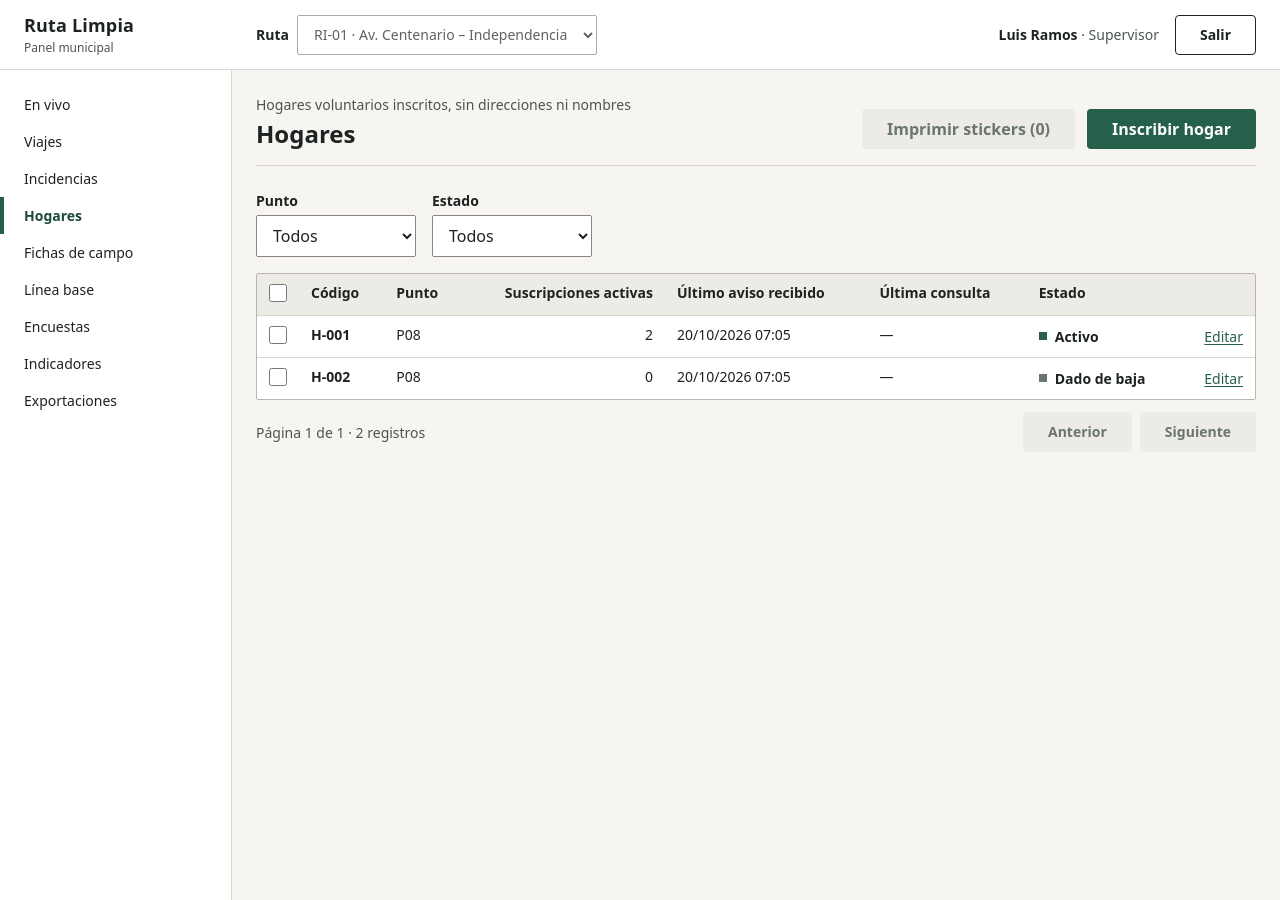
Test: HouseholdsPage › enrolls a household and tells the new code the API gave it
Click the button "Inscribir hogar" at (1172, 129), box [1087,109,1256,149]
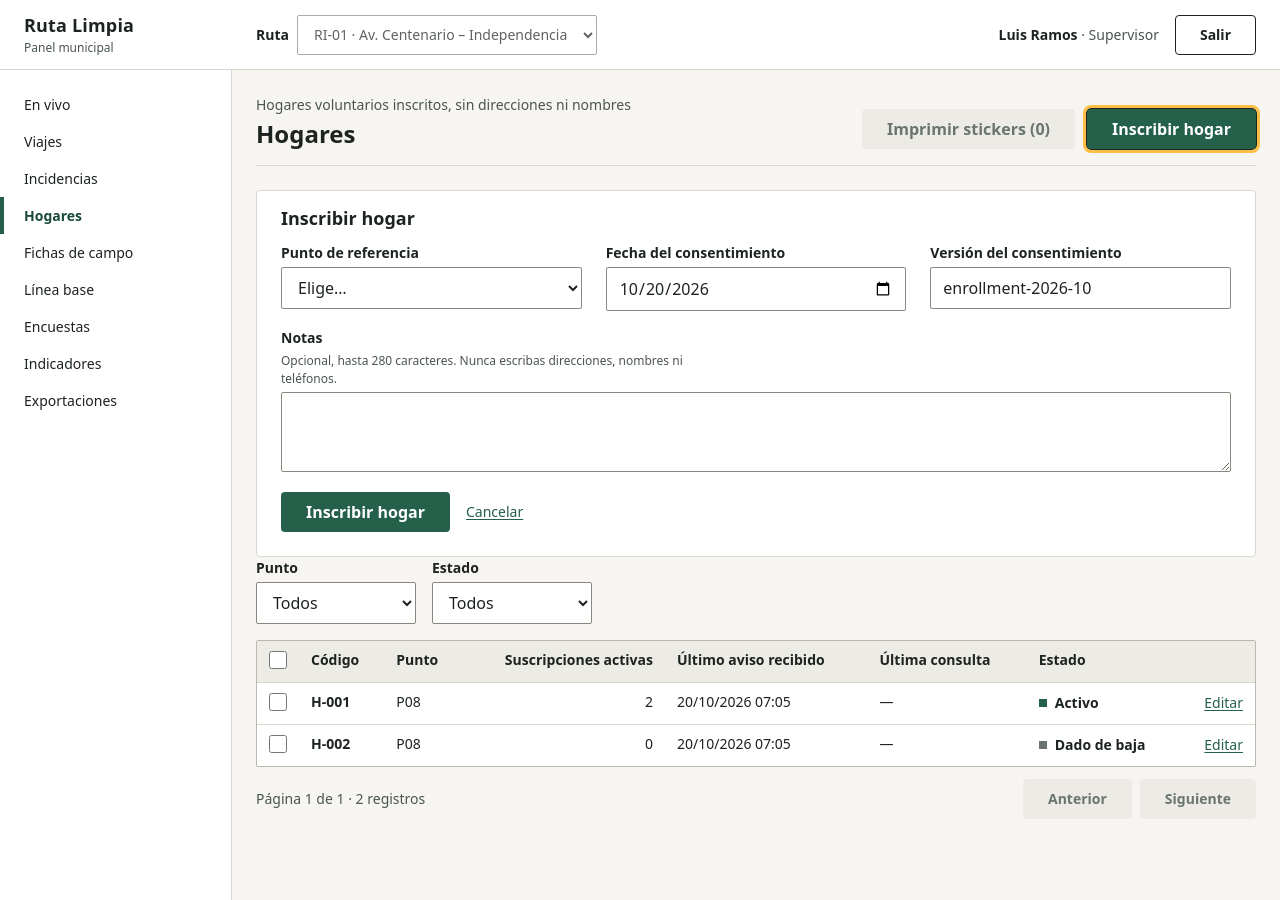
Click the button "Inscribir hogar" below "Notas" at (366, 512), box [281,492,450,532]
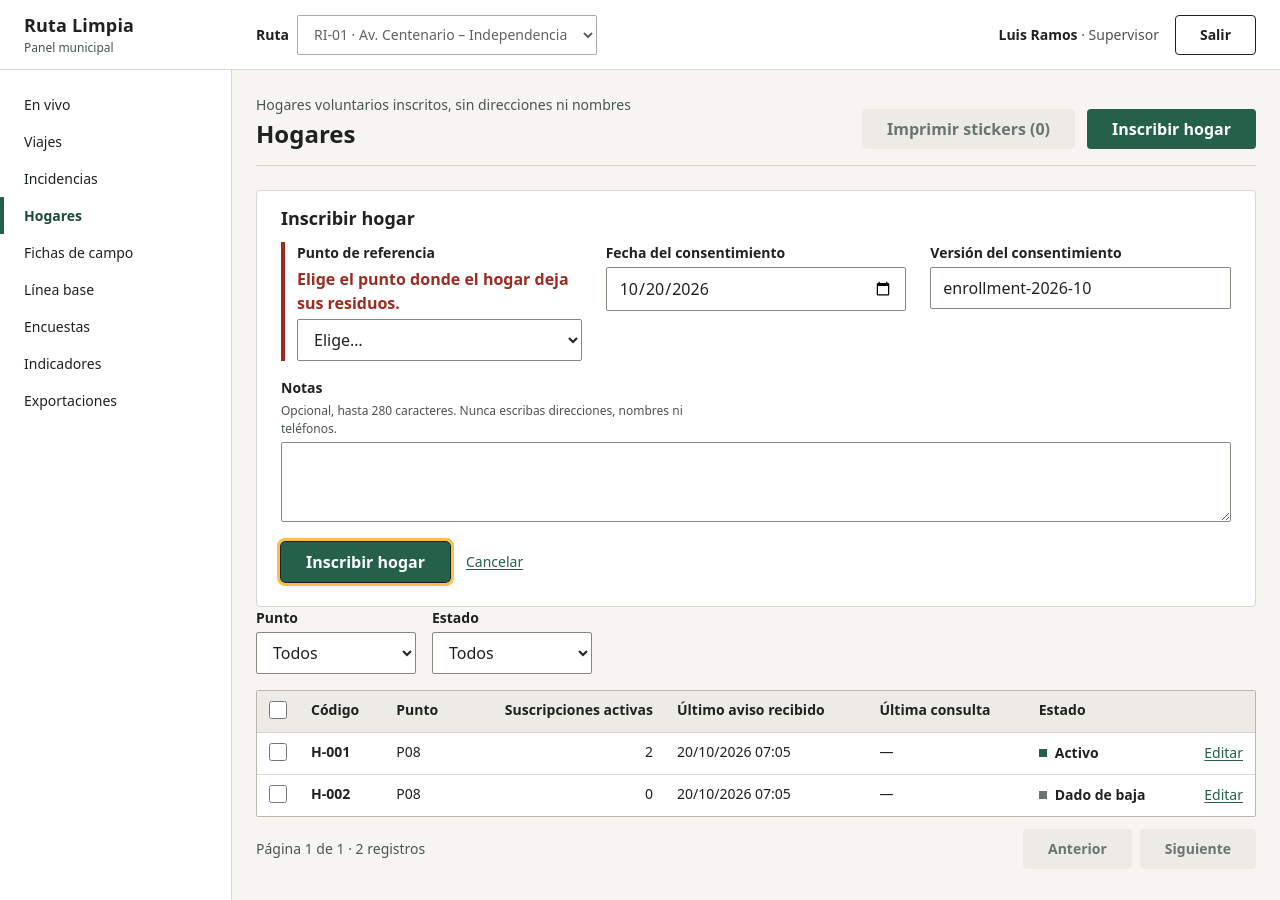
Now the text "Elige el punto donde el hogar deja sus residuos." is shown, box [297,266,582,314]
Select "P09 · Av. Centenario · punto 9" in the dropdown labelled "Punto de referencia" at (439, 340), box [297,318,582,360]
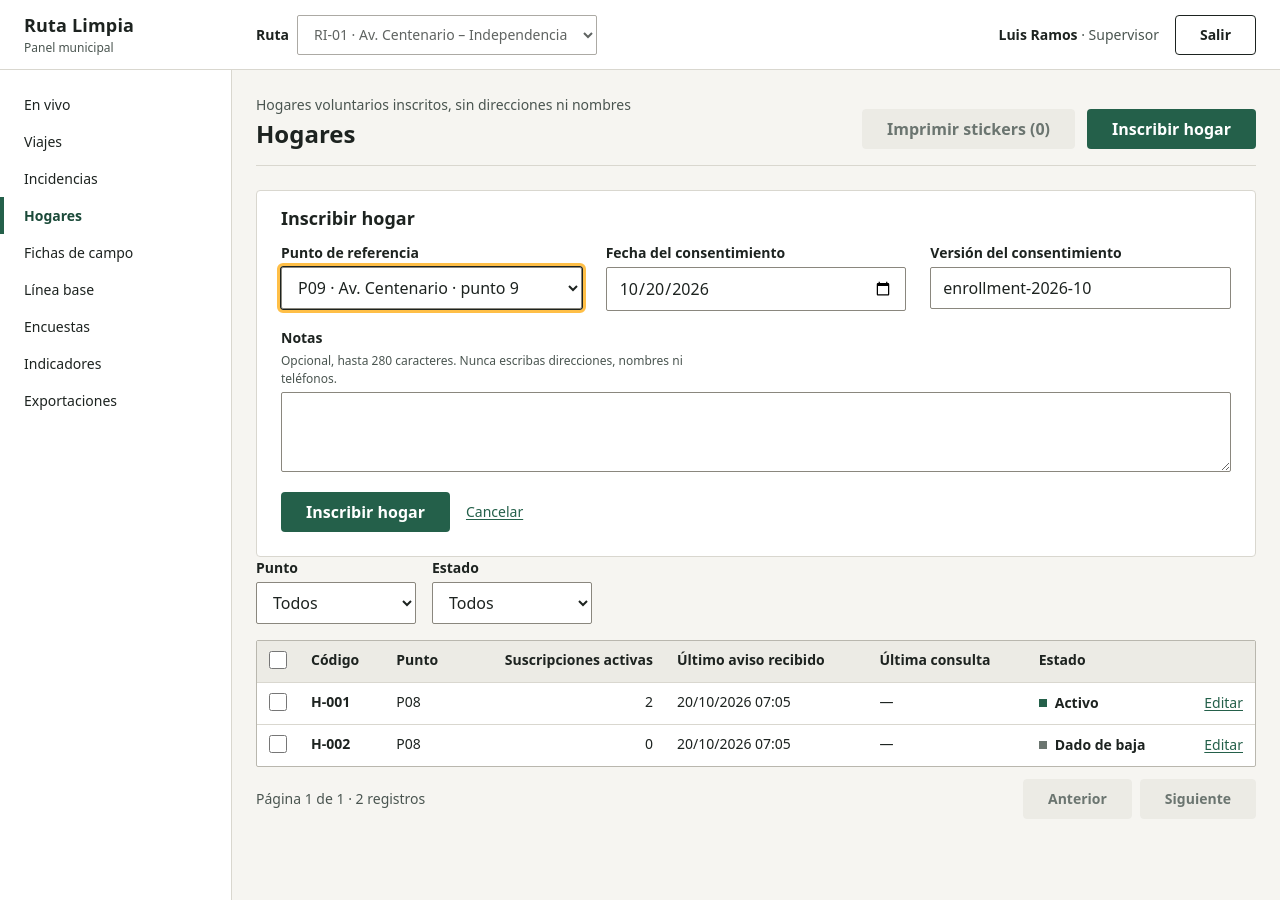
Type "Puerta verde" into the text box labelled "Notas" at (756, 432), box [281,392,1231,472]
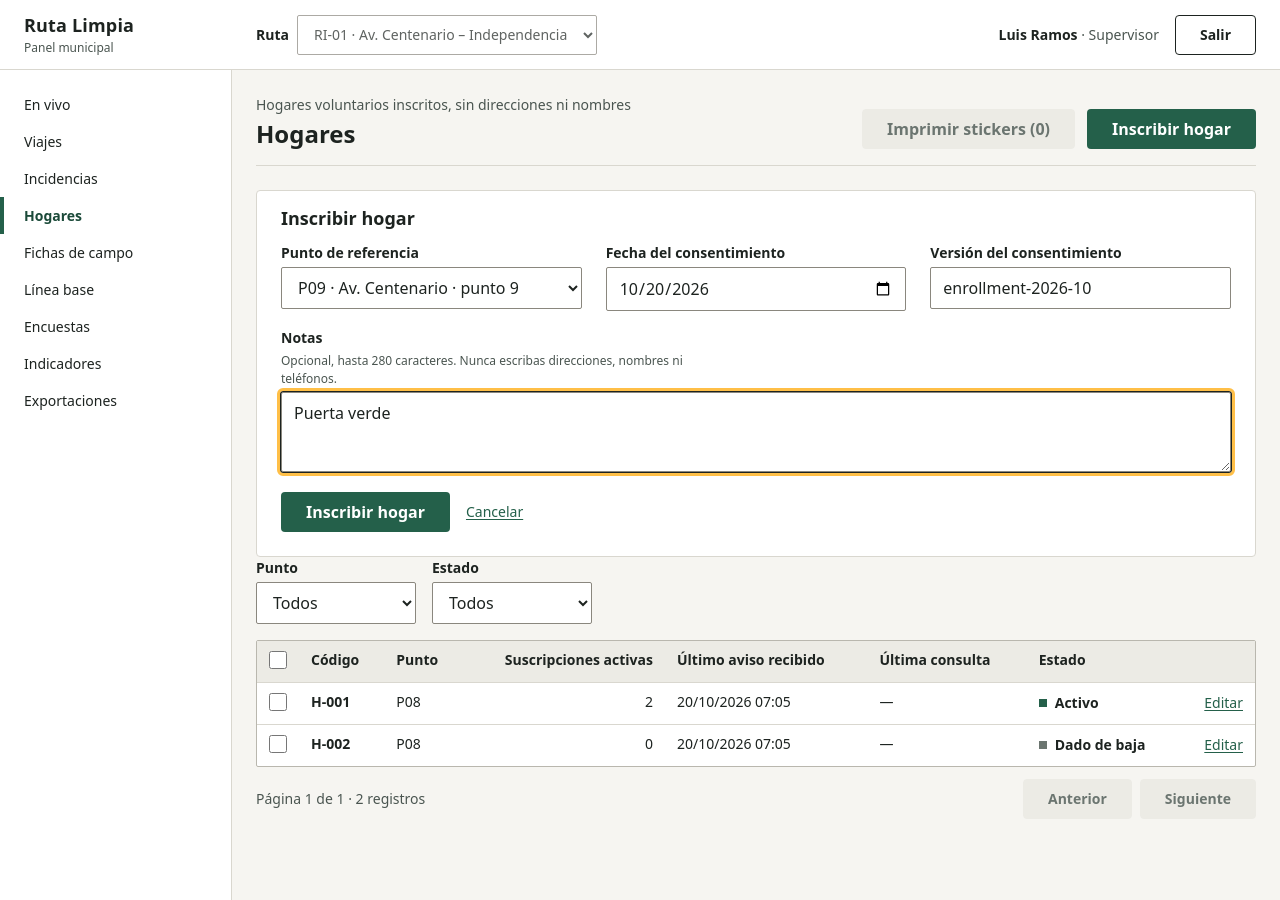
Click the button "Inscribir hogar" below "Notas" at (366, 512), box [281,492,450,532]
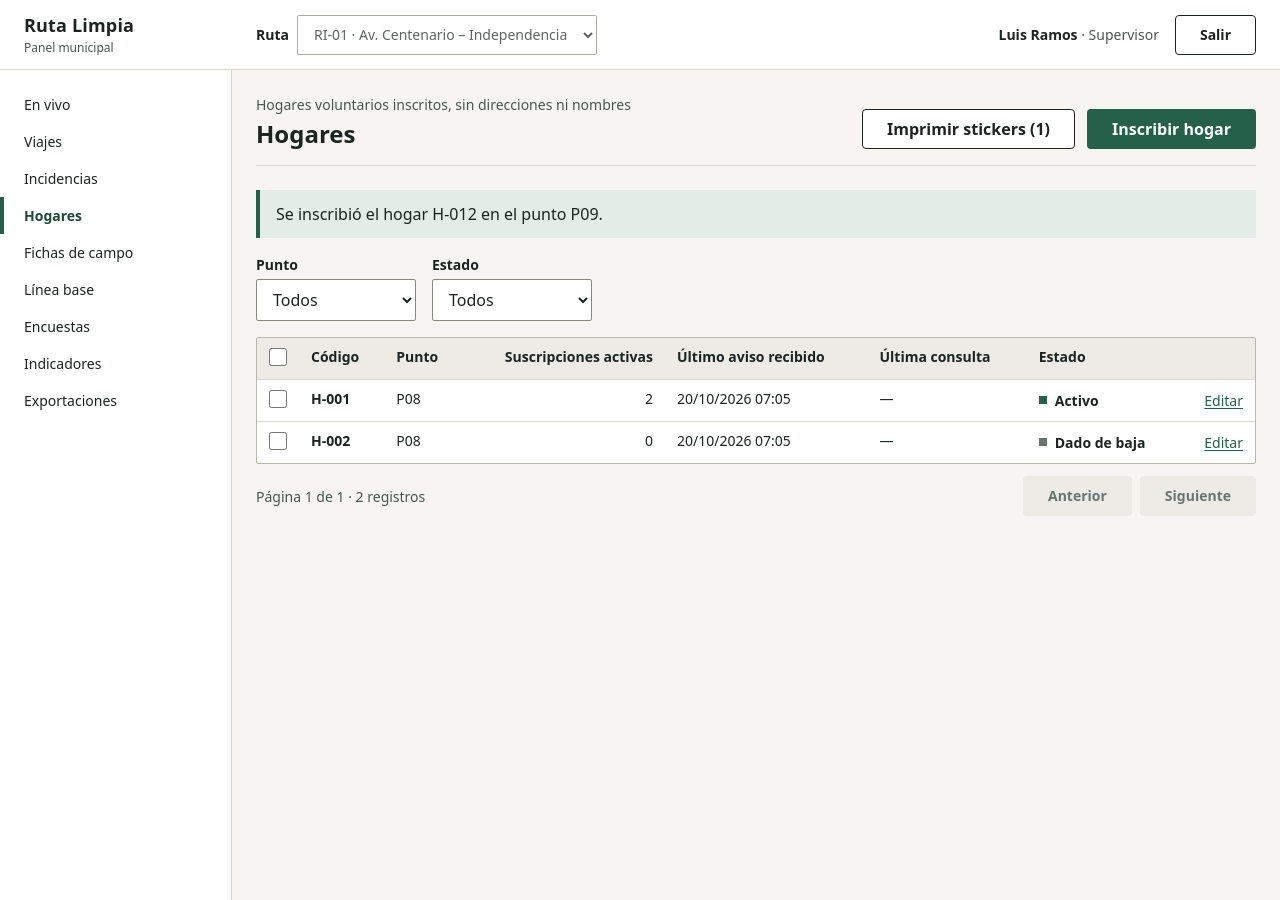
Now the text "Se inscribió el hogar H-012 en el punto P09." is shown, box [276,203,603,225]
